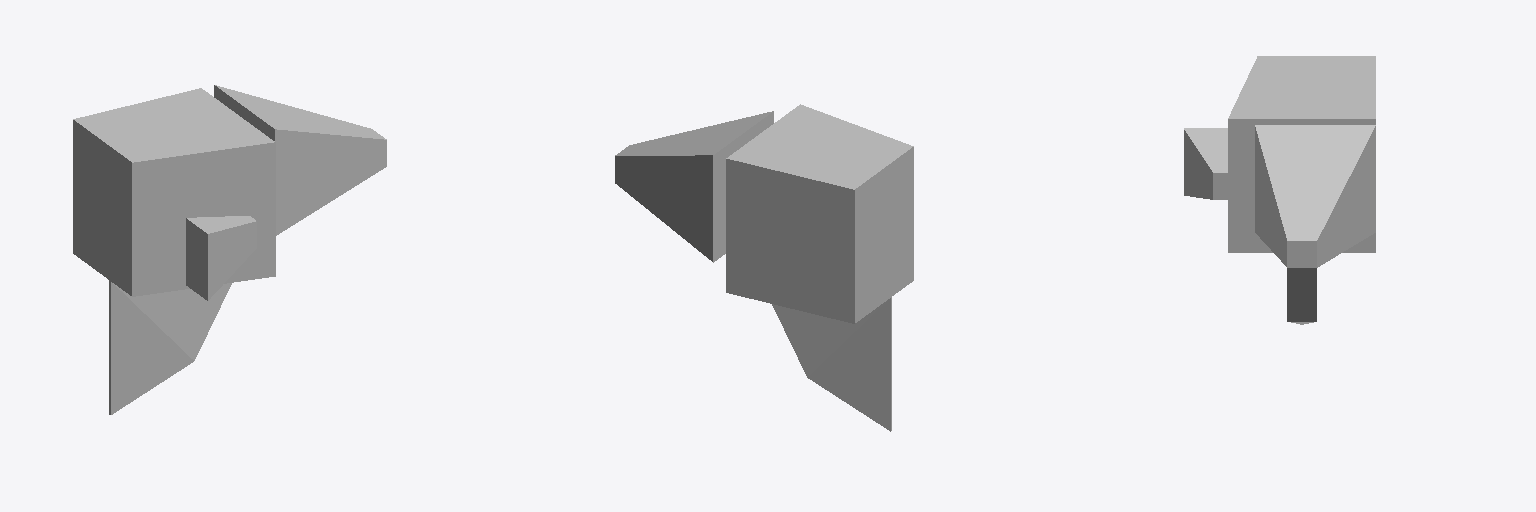
The model's file is thing1+x+z.obj.
3 renders of one model, left to right at view 1: azimuth 30°, elevation 25°; view 2: azimuth 150°, elevation 25°; view 3: azimuth 270°, elevation 25°, orthographic.
Visible parts, largest first — view 1: Cube; view 2: Cube; view 3: Cube.
Part boxes in pixels (x1,y1,x2,y2): Cube: (73, 85, 386, 414); Cube: (615, 104, 913, 431); Cube: (1184, 56, 1375, 324).
Size of the model in its own units: 1.05 by 1 by 0.65.